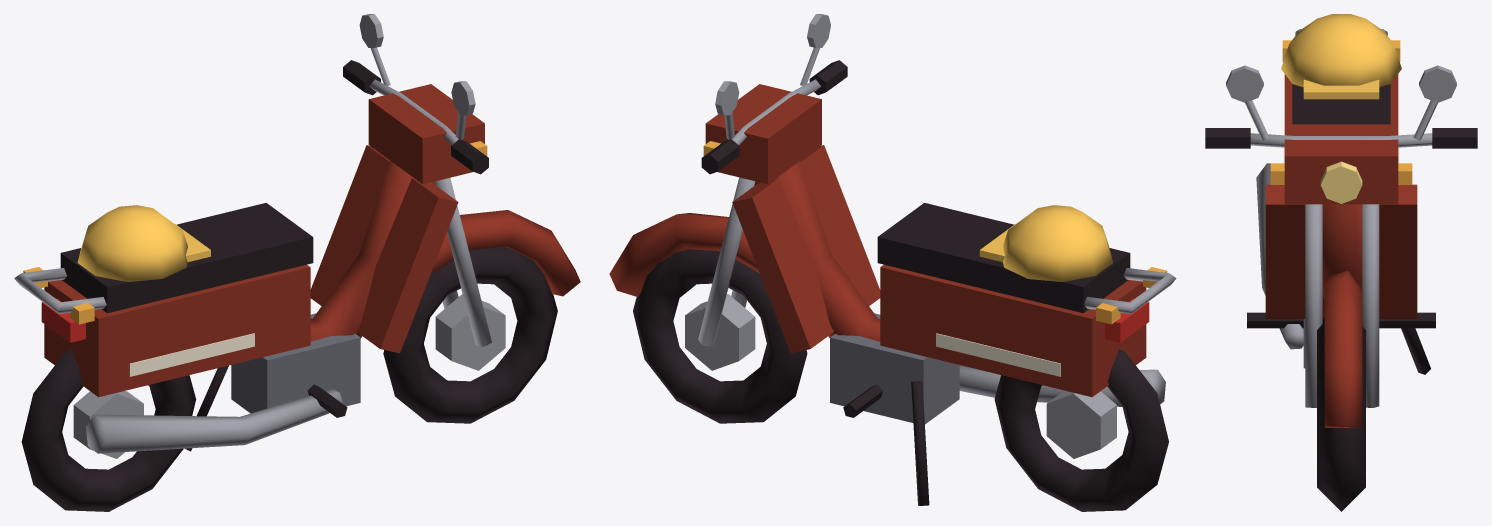
3 renders of one model, left to right at view 1: azimuth 30°, elevation 25°; view 2: azimuth 150°, elevation 25°; view 3: azimuth 270°, elevation 25°, orthographic. The views are drawn at different scales.
Visible parts, largest first — view 1: xe-om-2, xe-om-0, xe-om-1, xe-om-8, xe-om-5, xe-om-3, xe-om-4, xe-om-7; view 2: xe-om-2, xe-om-0, xe-om-1, xe-om-5, xe-om-8, xe-om-3, xe-om-4, xe-om-7; view 3: xe-om-2, xe-om-1, xe-om-0, xe-om-8, xe-om-6, xe-om-7.
Boxes of the visible parts, left/top/right/bottom form: xe-om-2: left=44, top=84, right=580, bottom=397; xe-om-0: left=21, top=60, right=557, bottom=511; xe-om-1: left=14, top=14, right=505, bottom=458; xe-om-8: left=77, top=205, right=210, bottom=281; xe-om-5: left=231, top=313, right=360, bottom=413; xe-om-3: left=129, top=333, right=254, bottom=376; xe-om-4: left=41, top=298, right=85, bottom=342; xe-om-7: left=23, top=141, right=487, bottom=324; xe-om-2: left=609, top=84, right=1146, bottom=396; xe-om-0: left=633, top=60, right=1168, bottom=511; xe-om-1: left=685, top=14, right=1176, bottom=458; xe-om-5: left=830, top=313, right=959, bottom=424; xe-om-8: left=979, top=205, right=1112, bottom=281; xe-om-3: left=936, top=333, right=1060, bottom=376; xe-om-4: left=1105, top=298, right=1149, bottom=342; xe-om-7: left=703, top=141, right=1167, bottom=324; xe-om-2: left=1265, top=74, right=1417, bottom=427; xe-om-1: left=1226, top=29, right=1456, bottom=407; xe-om-0: left=1205, top=84, right=1477, bottom=511; xe-om-8: left=1281, top=14, right=1401, bottom=99; xe-om-6: left=1320, top=161, right=1362, bottom=203; xe-om-7: left=1270, top=40, right=1412, bottom=184.
Size of the model in its own units: 2.09 by 1.39 by 0.8424.
